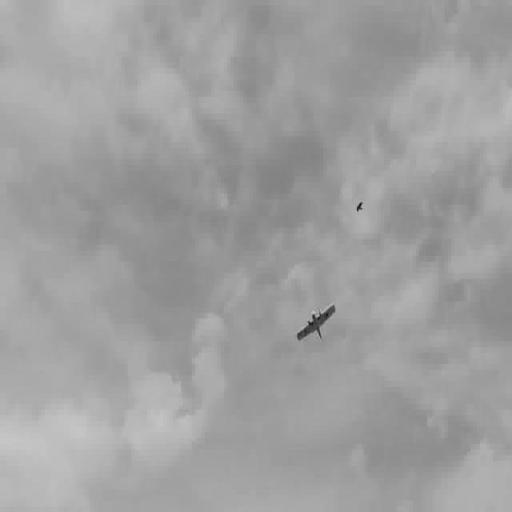uav: (294, 296, 336, 354)
